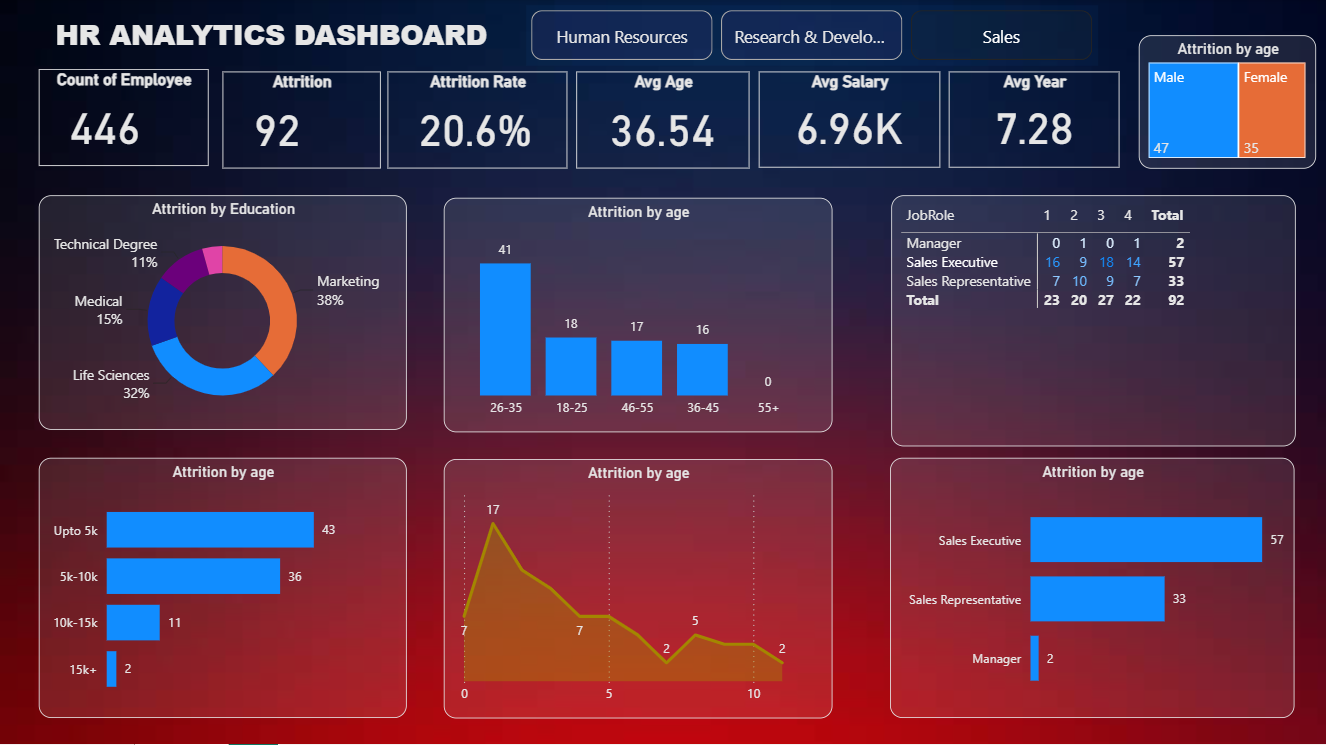

What the dashboard file says about the page in this screenshot:
{"tool":"powerbi","page":{"name":"Page 1","canvas":[1280,720],"ordinal":0},"visuals":[{"type":"cardVisual","title":"Count of Employee","fields":{"Data":["CountNonNull(HR_Analytics.EmpID)"]},"box":[37.5,67.5,163.8,93.8],"z":0},{"type":"cardVisual","title":"Attrition","fields":{"Data":["Sum(HR_Analytics.AttritionCount)"]},"box":[215,70,152.5,93.8],"z":1000},{"type":"cardVisual","title":"Attrition Rate","fields":{"Data":["HR_Analytics.AttritionRate"]},"box":[373.8,70,173.8,93.8],"z":2000},{"type":"cardVisual","title":"Avg Age","fields":{"Data":["Avg(HR_Analytics.Age)"]},"box":[556.2,70,167.5,93.8],"z":3000},{"type":"cardVisual","title":"Avg Salary","fields":{"Data":["Avg(HR_Analytics.MonthlyIncome)"]},"box":[732.5,70,175,92.5],"z":4000},{"type":"cardVisual","title":"Avg Year","fields":{"Data":["Avg(HR_Analytics.YearsAtCompany)"]},"box":[916.2,70,165,92.5],"z":5000},{"type":"donutChart","title":"Attrition by Education","fields":{"Category":["HR_Analytics.EducationField"],"Y":["Sum(HR_Analytics.AttritionCount)"]},"box":[37.5,190,355,226.2],"z":6000},{"type":"columnChart","title":"Attrition by age","fields":{"Category":["HR_Analytics.AgeGroup"],"Y":["Sum(HR_Analytics.AttritionCount)"]},"box":[428.8,191.2,375,226.2],"z":7000},{"type":"pivotTable","fields":{"Rows":["HR_Analytics.JobRole"],"Columns":["HR_Analytics.JobSatisfaction"],"Values":["Sum(HR_Analytics.AttritionCount)"]},"box":[860,190,390,242.5],"z":8000},{"type":"barChart","title":"Attrition by age","fields":{"Category":["HR_Analytics.SalarySlab"],"Y":["Sum(HR_Analytics.AttritionCount)"]},"box":[37.1,443.3,354.9,250.9],"z":9000},{"type":"barChart","title":"Attrition by age","fields":{"Y":["Sum(HR_Analytics.AttritionCount)"],"Category":["HR_Analytics.JobRole"]},"box":[859.5,443.3,390.6,250.9],"z":10000},{"type":"areaChart","title":"Attrition by age","fields":{"Category":["HR_Analytics.YearsAtCompany"],"Y":["Sum(HR_Analytics.AttritionCount)"]},"box":[428.8,443.8,375,250],"z":11000},{"type":"treemap","title":"Attrition by age","fields":{"Group":["HR_Analytics.Gender"],"Values":["Sum(HR_Analytics.AttritionCount)"]},"box":[1098.8,35,171.2,128.8],"z":12000},{"type":"advancedSlicerVisual","fields":{"Values":["HR_Analytics.Department"]},"box":[507.4,5.7,551.6,58.4],"z":13000},{"type":"textbox","box":[37.5,10,448.8,48.8],"z":14000}]}

Visuals, with their boxes in screenshot pixels (x1, y1, x2, y2), scaled from the page's 1280x720 canvas onto the 1326x745 screenshot:
"Count of Employee" cardVisual: rect(39, 70, 209, 167)
"Attrition" cardVisual: rect(223, 72, 381, 169)
"Attrition Rate" cardVisual: rect(387, 72, 567, 169)
"Avg Age" cardVisual: rect(576, 72, 750, 169)
"Avg Salary" cardVisual: rect(759, 72, 940, 168)
"Avg Year" cardVisual: rect(949, 72, 1120, 168)
"Attrition by Education" donutChart: rect(39, 197, 407, 431)
"Attrition by age" columnChart: rect(444, 198, 833, 432)
pivotTable - HR_Analytics.JobRole x HR_Analytics.JobSatisfaction: rect(891, 197, 1295, 448)
"Attrition by age" barChart: rect(38, 459, 406, 718)
"Attrition by age" barChart: rect(890, 459, 1295, 718)
"Attrition by age" areaChart: rect(444, 459, 833, 718)
"Attrition by age" treemap: rect(1138, 36, 1316, 169)
advancedSlicerVisual - HR_Analytics.Department: rect(526, 6, 1097, 66)
textbox: rect(39, 10, 504, 61)
